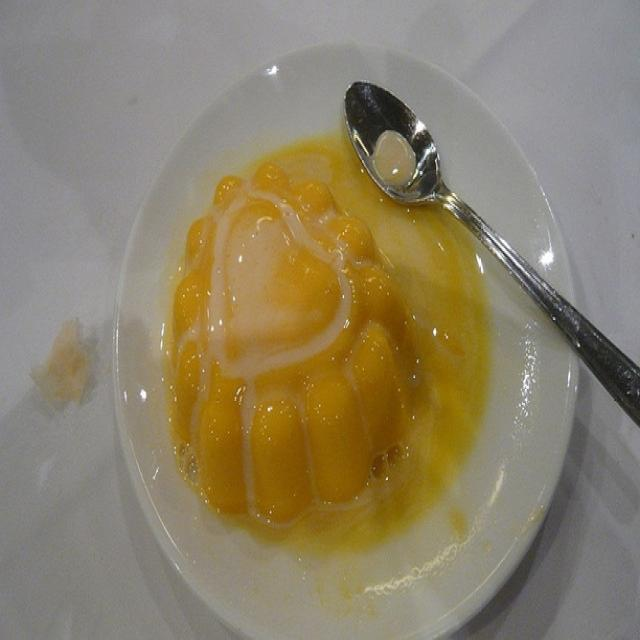蛋糕甜品: (112, 53, 571, 637)
